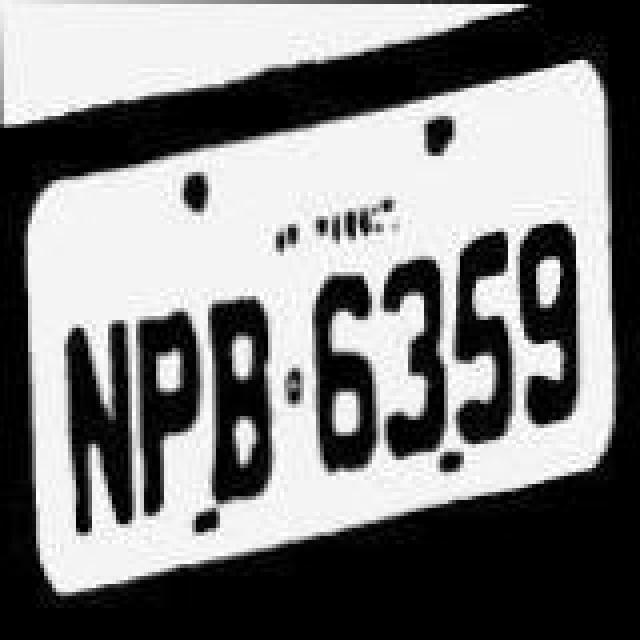3: (370, 242, 454, 466)
5: (446, 220, 522, 448)
6: (302, 256, 378, 508)
9: (514, 210, 590, 438)
B: (200, 264, 288, 508)
N: (56, 278, 136, 538)
P: (134, 256, 210, 520)
